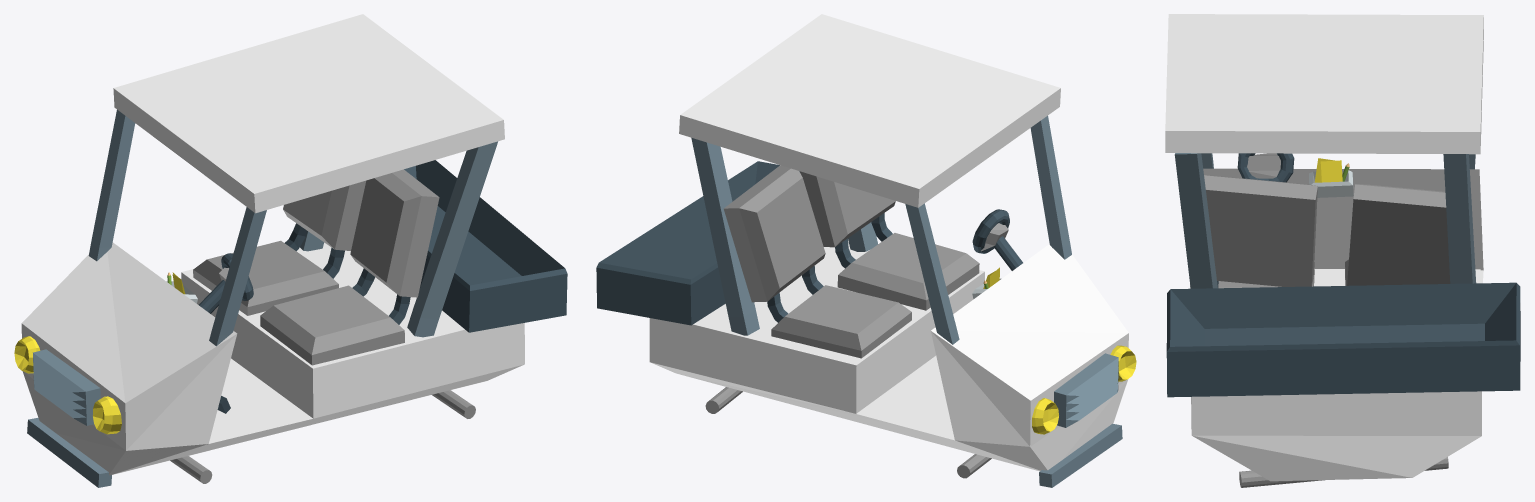
Rendered from golfbody.glb.
3 views of the same model, side by side, from view 1: azimuth 30°, elevation 25°; view 2: azimuth 150°, elevation 25°; view 3: azimuth 270°, elevation 25° (orthographic). The views are drawn at different scales.
Parts seen in each view (by area): view 1: Node; view 2: Node; view 3: Node.
Boxes of the visible parts, x1,y1,x2,y2 form: Node: (14, 14, 567, 487); Node: (596, 14, 1136, 487); Node: (1165, 14, 1520, 487).
Size of the model in its own units: 2.39 by 1.69 by 1.52.
